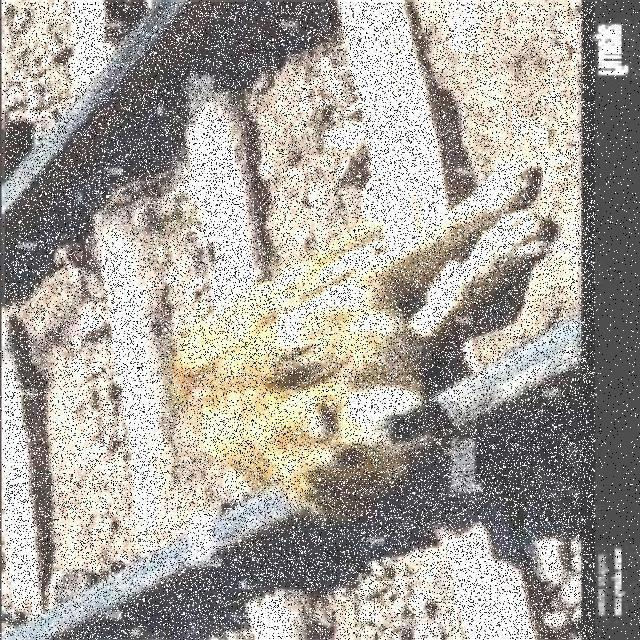rail: (7, 3, 596, 640)
